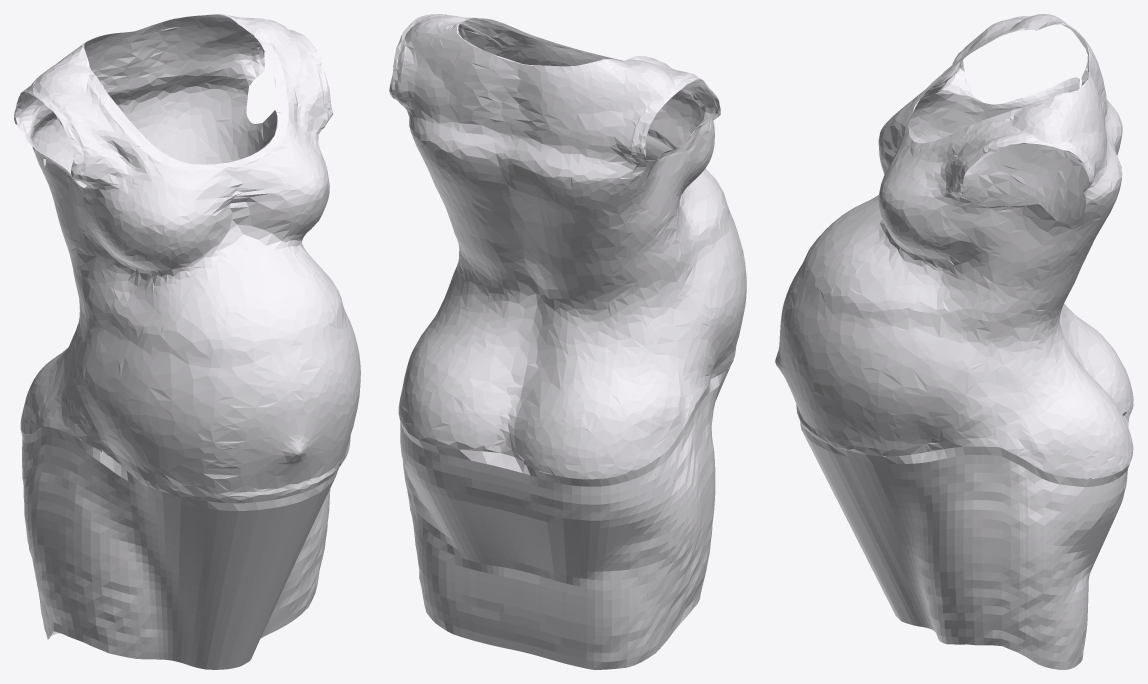
The model's file is sarah-v2-spandex-cloth.glb.
The picture shows the model from 3 angles, left to right: view 1: azimuth 30°, elevation 25°; view 2: azimuth 150°, elevation 25°; view 3: azimuth 270°, elevation 25°; orthographic projection. The views are drawn at different scales.
Parts seen in each view (by area): view 1: sarah-v2-shirt-spandex-cloth; view 2: sarah-v2-shirt-spandex-cloth; view 3: sarah-v2-shirt-spandex-cloth.
Part boxes in pixels (x1,y1,x2,y2): sarah-v2-shirt-spandex-cloth: (14, 14, 360, 669); sarah-v2-shirt-spandex-cloth: (389, 14, 746, 669); sarah-v2-shirt-spandex-cloth: (775, 14, 1133, 669).
Size of the model in its own units: 0.4364 by 0.8759 by 0.4963.
Materials: 1 (1 with a texture image).
